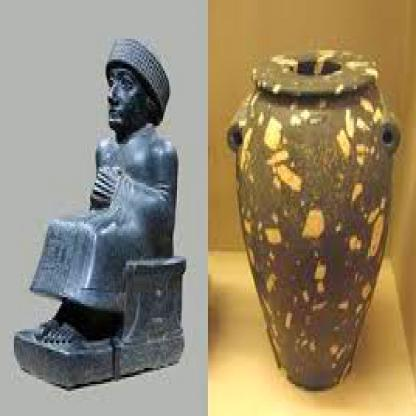Igneous_Diorite: (14, 25, 192, 386)
